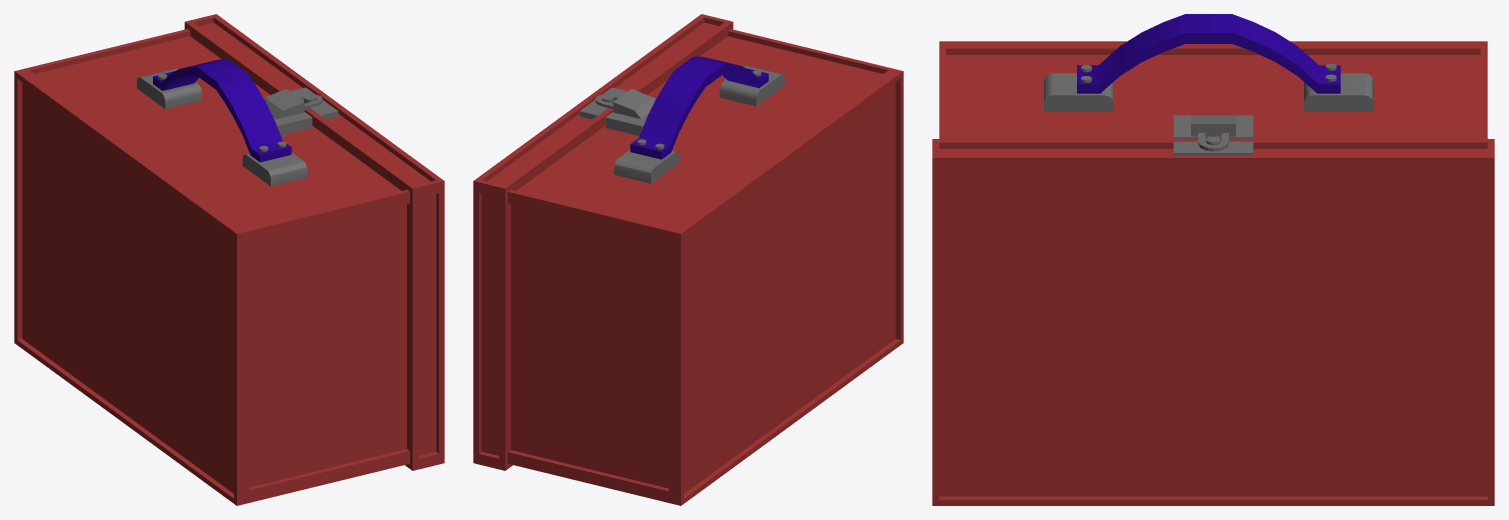
Rendered from AnaKaremDeAnimacion@LoncheraMetalica.fbx.
The picture shows the model from 3 angles, left to right: view 1: azimuth 30°, elevation 25°; view 2: azimuth 150°, elevation 25°; view 3: azimuth 270°, elevation 25°; orthographic projection. The views are drawn at different scales.
Parts seen in each view (by area): view 1: pCube1, pCylinder5, pCube10; view 2: pCube1, pCylinder5, pCube10; view 3: pCube1, pCylinder5, pCube10.
Part boxes in pixels (box(x1,y1,x2,y2)): pCube1: box(14, 14, 444, 505); pCylinder5: box(137, 59, 307, 186); pCube10: box(263, 87, 338, 135); pCube1: box(473, 14, 903, 505); pCylinder5: box(614, 56, 784, 183); pCube10: box(579, 87, 656, 135); pCube1: box(932, 41, 1494, 505); pCylinder5: box(1044, 14, 1373, 111); pCube10: box(1173, 115, 1253, 154).
Bounding box in the file's own units: 4.18 × 6.59 × 8.07.
